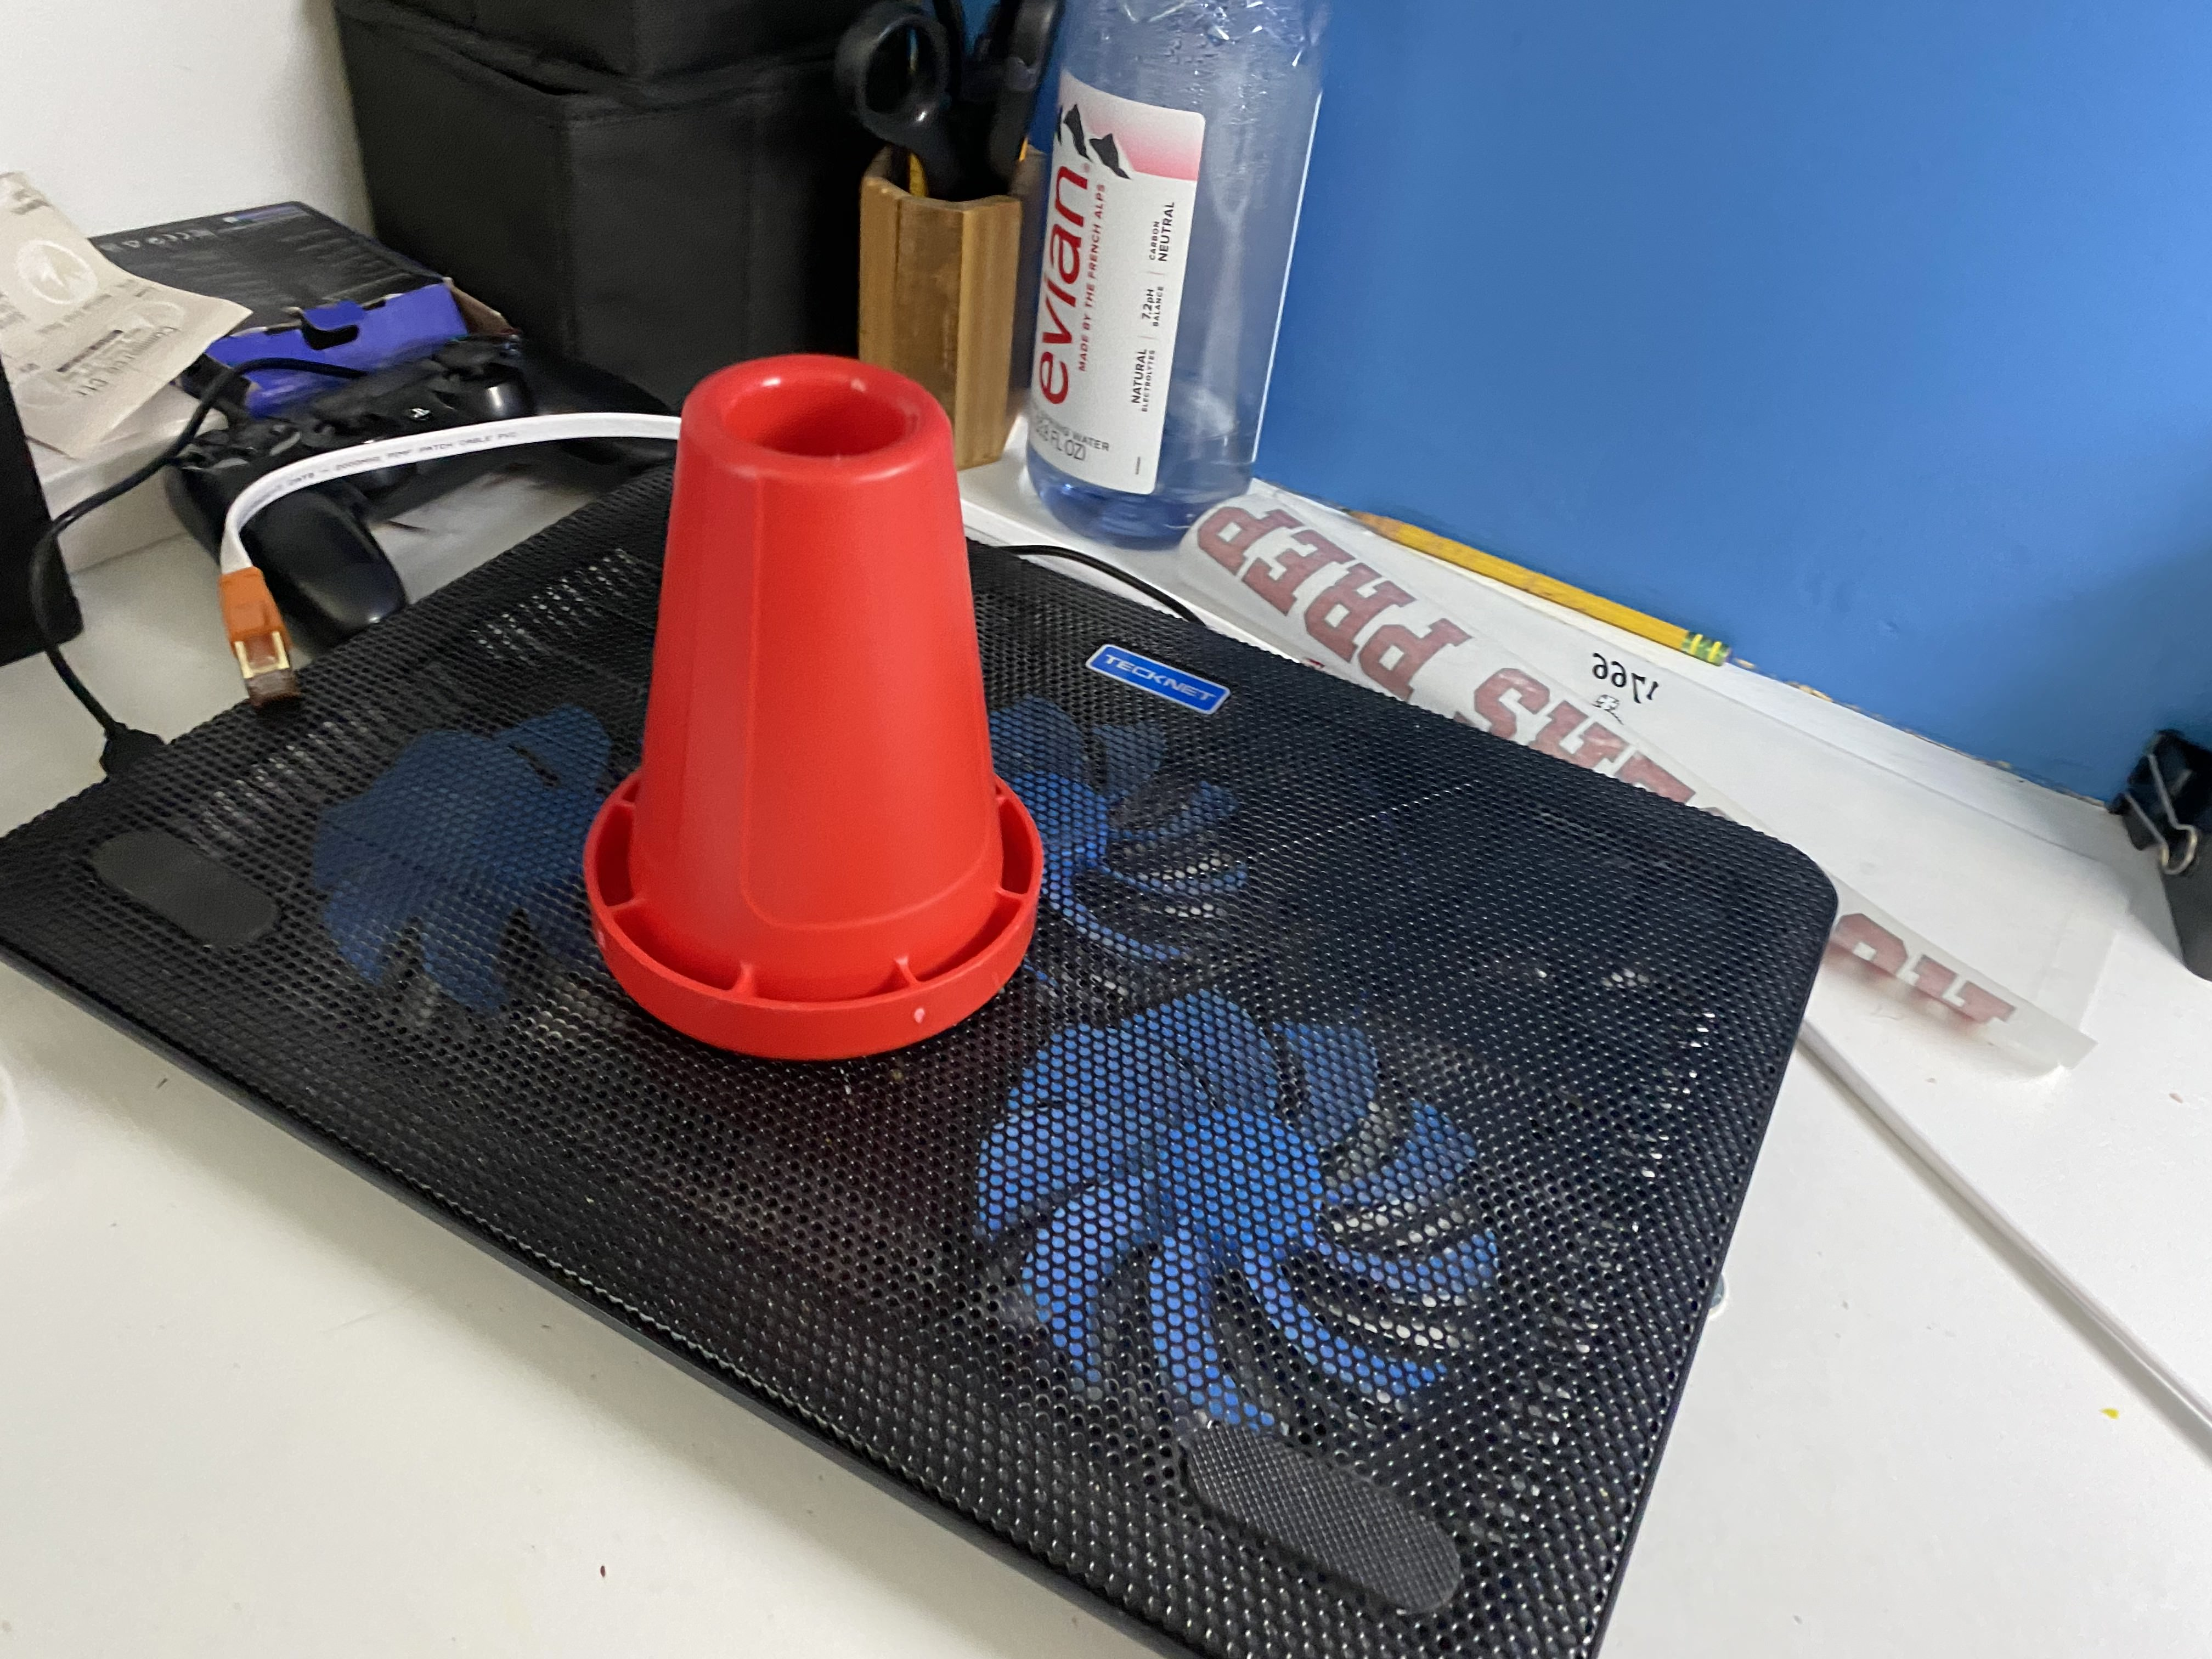redCone: (577, 345, 1052, 1079)
